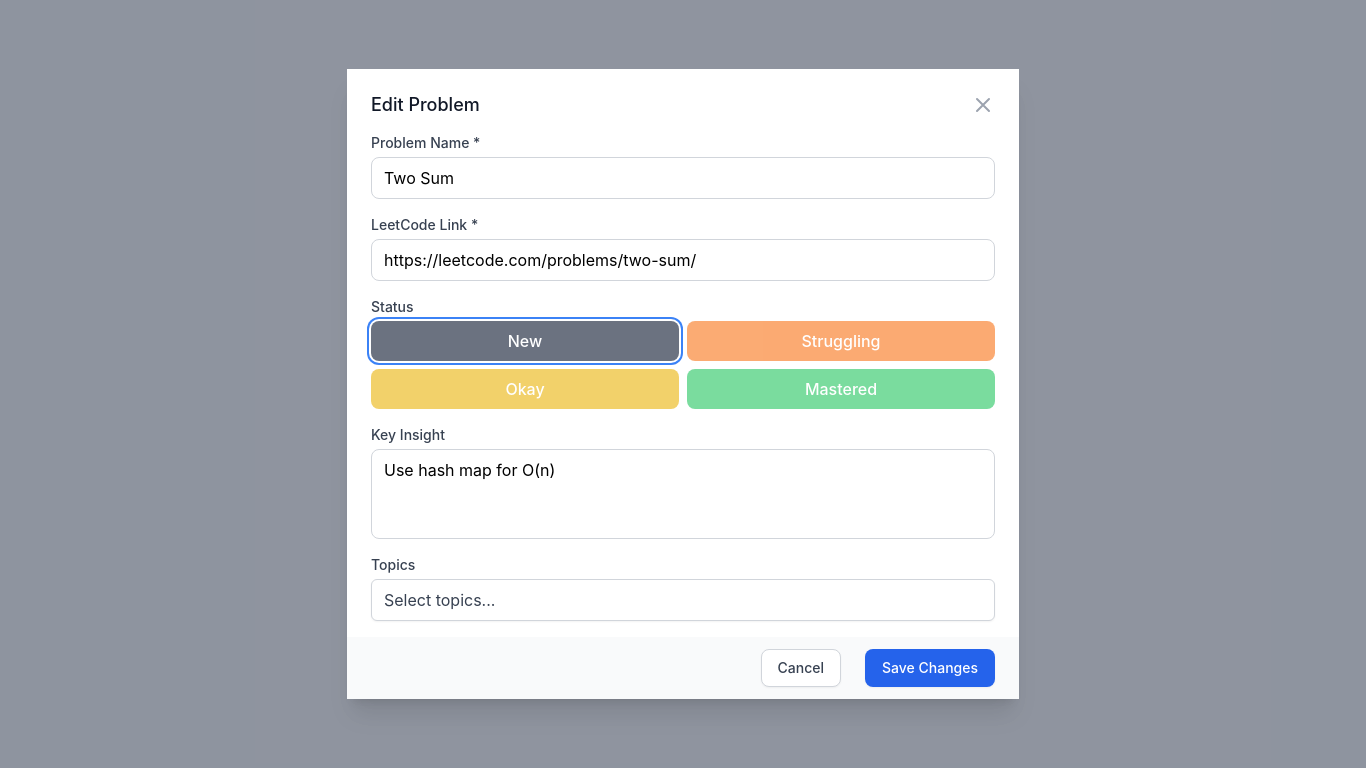
Test case: EditProblemModal › Save functionality › should show loading state while saving
Type "New Name" into the field labelled "Problem Name *" at (683, 178), box left=371, top=157, right=995, bottom=199
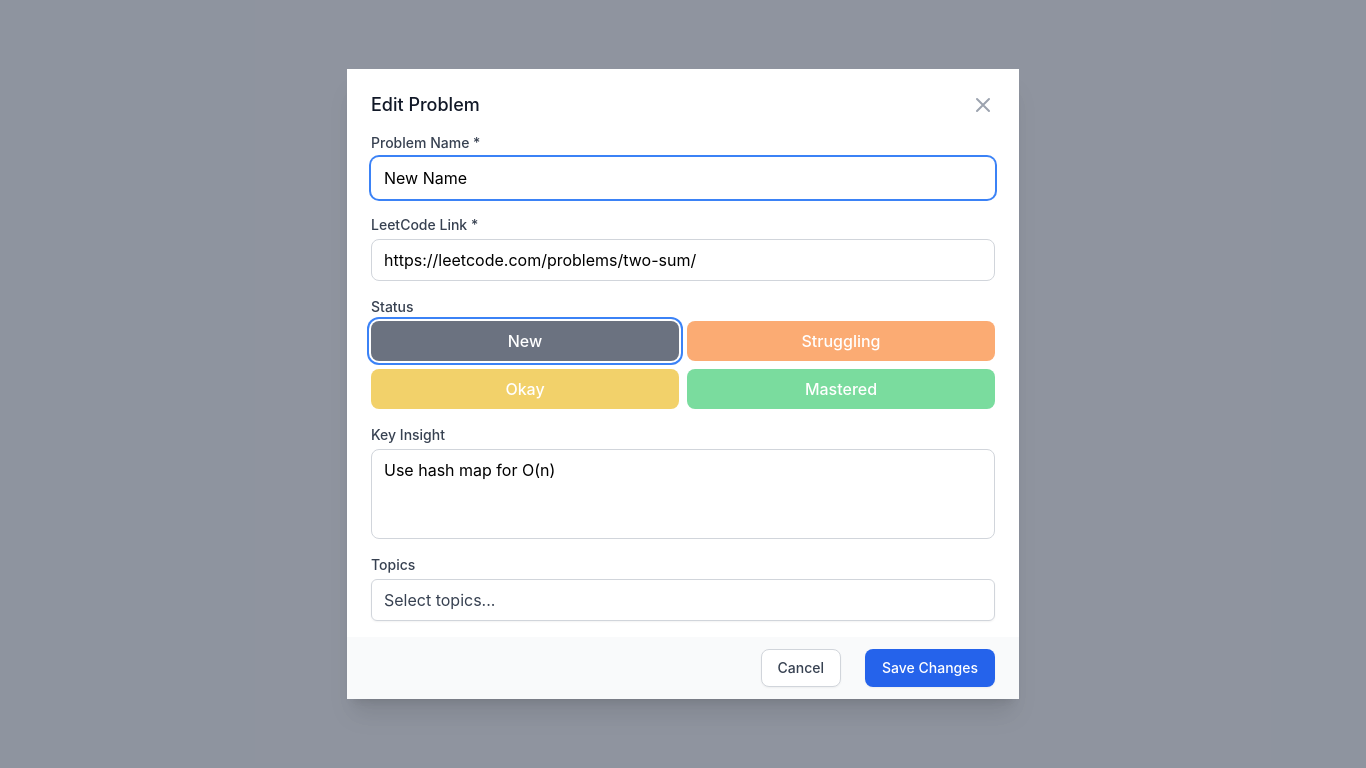
Click the button "Save Changes" at (930, 668), box left=865, top=649, right=995, bottom=687
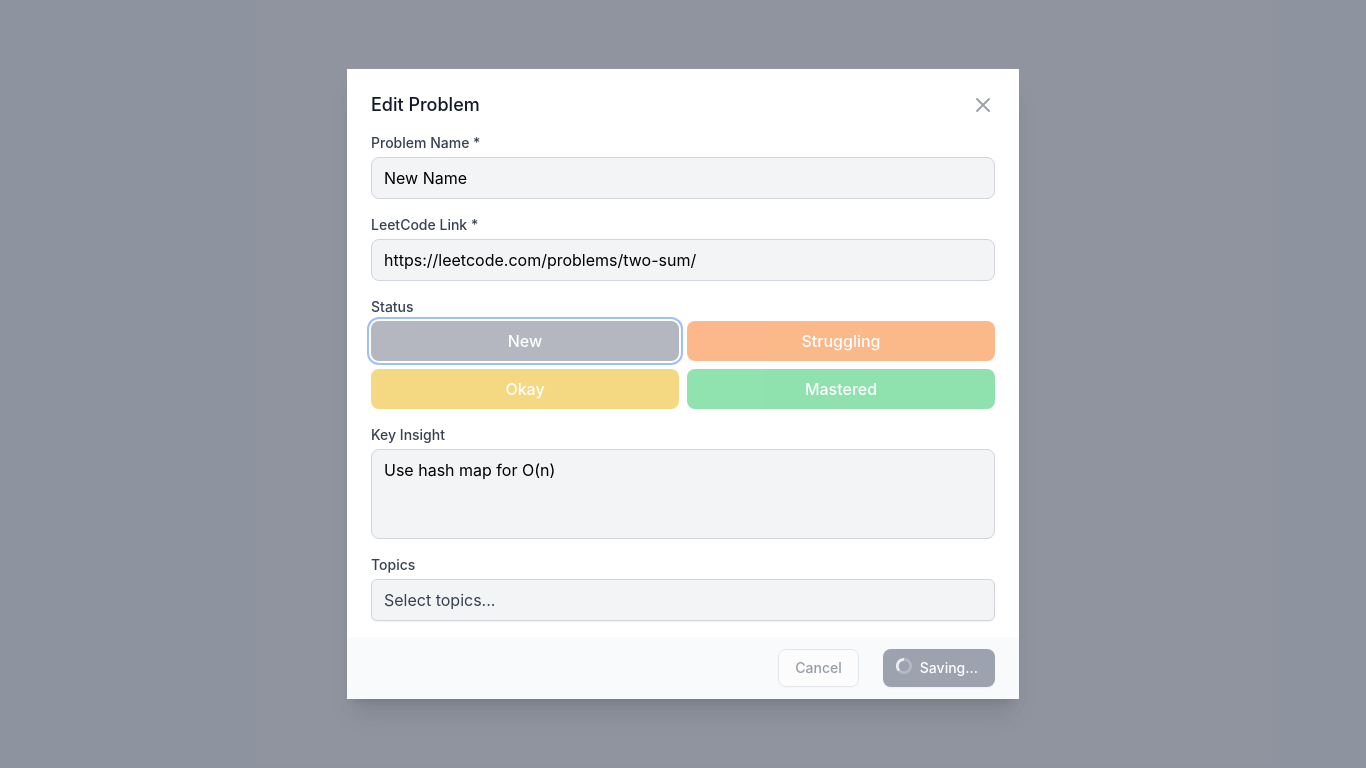
Now the button "Saving..." is disabled, box left=883, top=649, right=995, bottom=687
